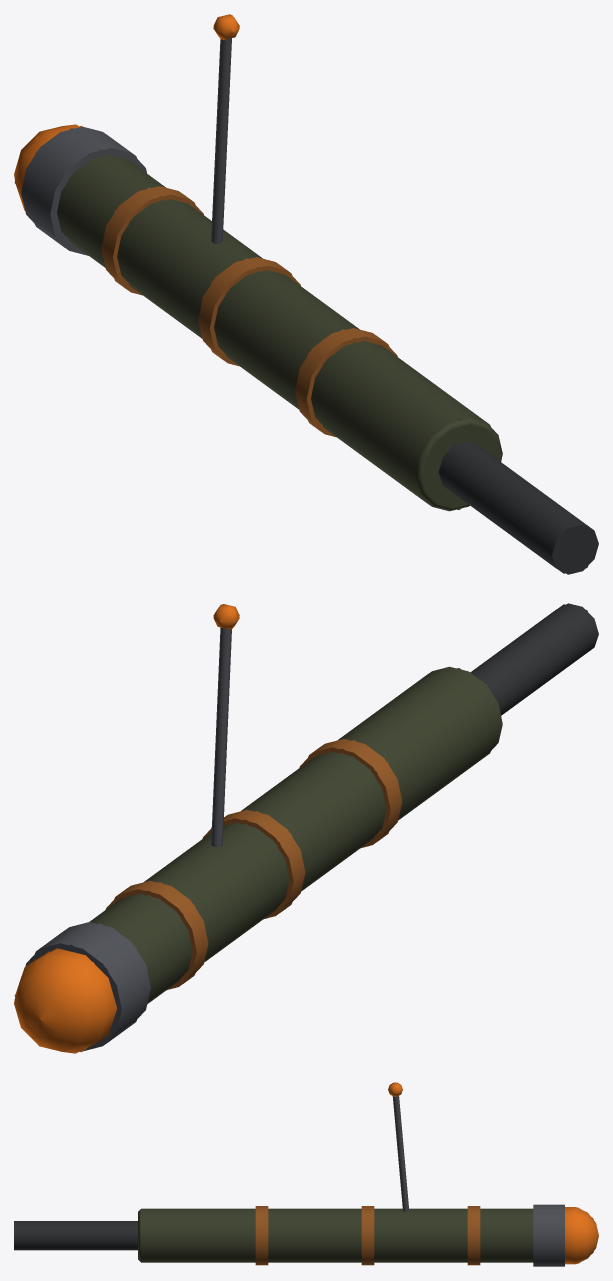
The model's file is st_air_s.glb.
The picture shows the model from 3 angles, top to bottom: view 1: azimuth 30°, elevation 25°; view 2: azimuth 150°, elevation 25°; view 3: azimuth 270°, elevation 25°; orthographic projection. The views are drawn at different scales.
Visible parts, largest first — view 1: L0, L1; view 2: L0, L1; view 3: L0, L1.
Boxes of the visible parts, x1,y1,x2,y2 form: L0: (14, 14, 598, 574); L1: (14, 15, 597, 573); L0: (14, 603, 598, 1053); L1: (14, 604, 588, 1052); L0: (14, 1082, 598, 1266); L1: (14, 1082, 594, 1265).
Size of the model in its own units: 0.06 by 0.1881 by 0.552.
